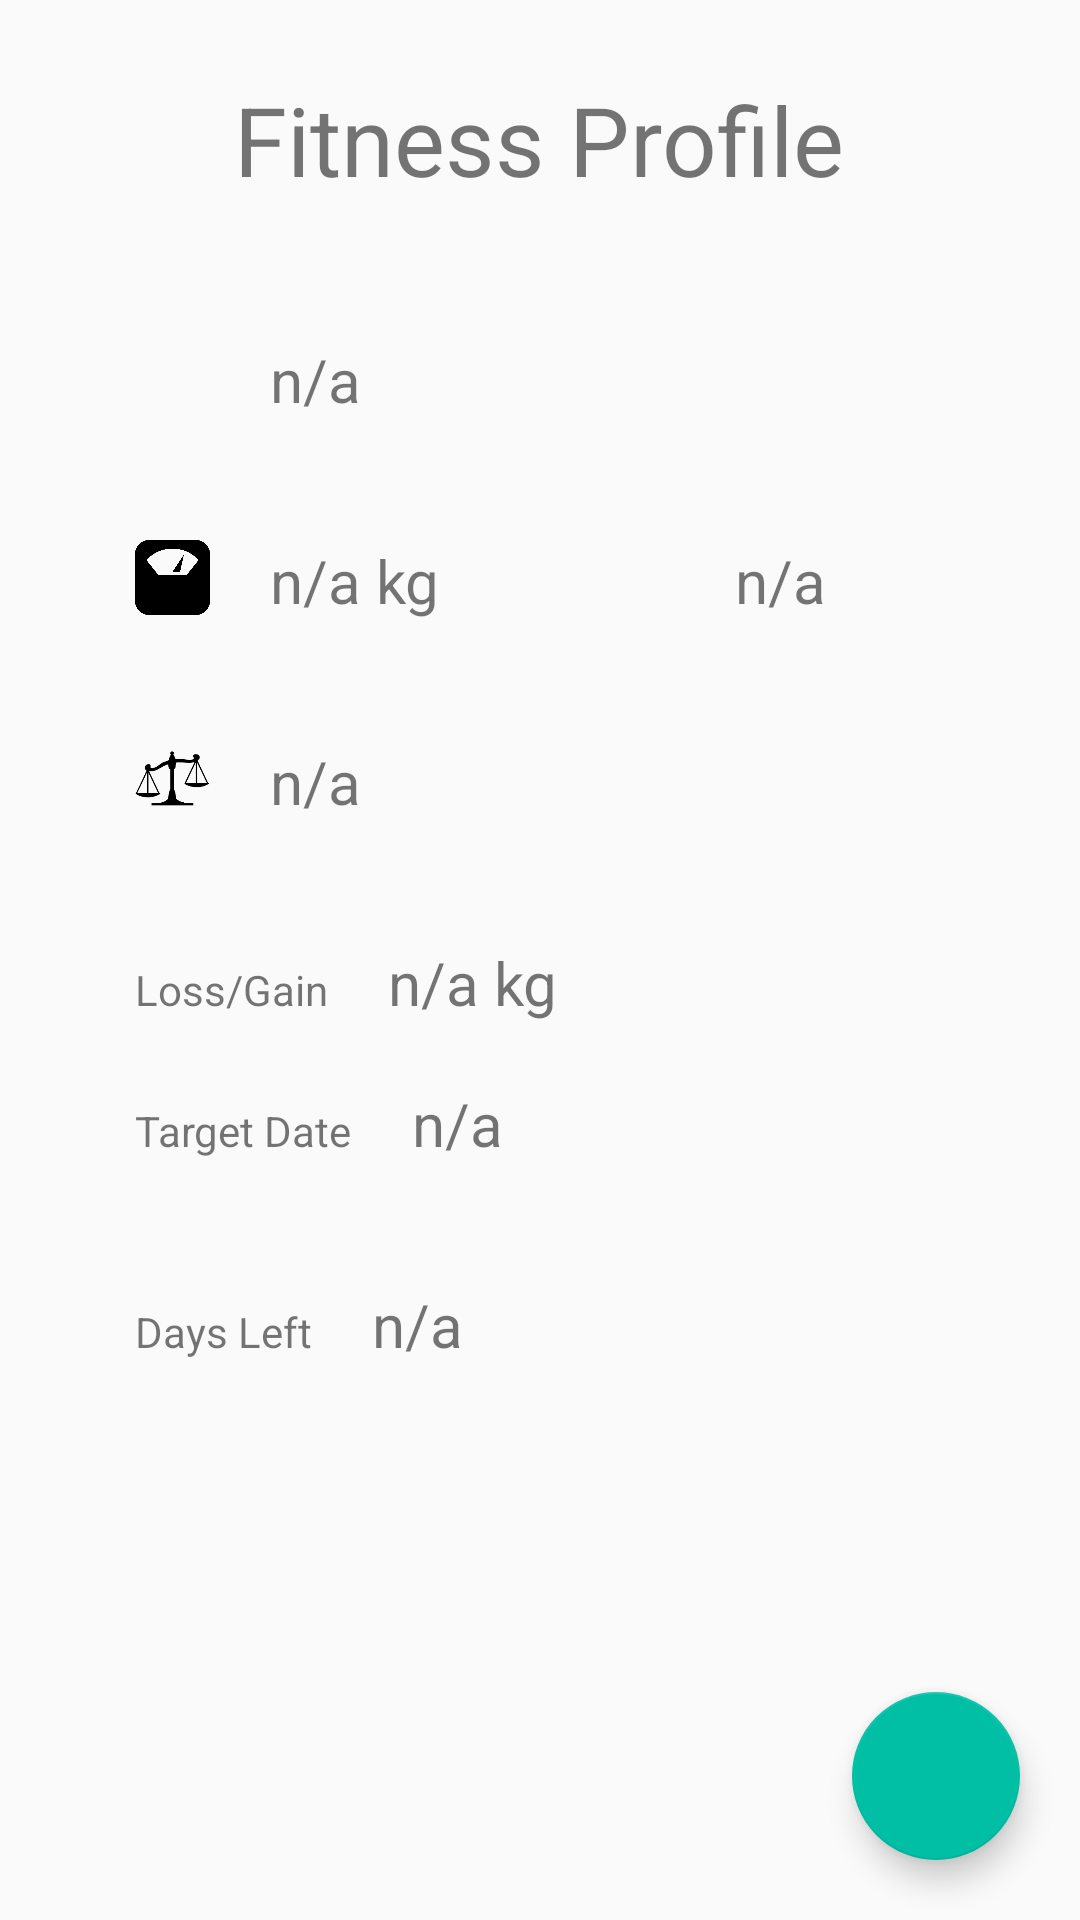

Named icons in this screenshot (1080px x 1920px) and their bounding boxes, (x1, y1, x2, y2):
Weight: (135, 540, 210, 615)
Weight Difference: (135, 751, 209, 806)
